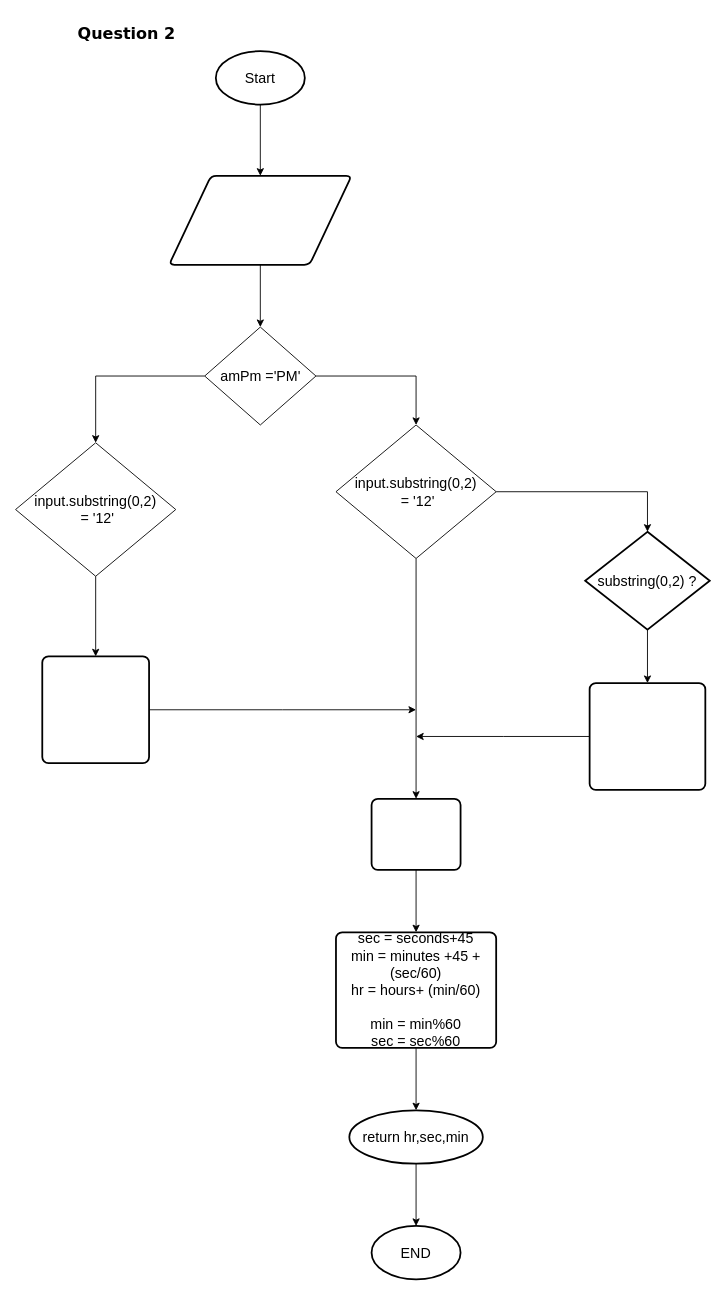
The diagram is 726 pixels wide and 1295 high, and some of its shapes have lost their labels. The centre of each missing label's shape, as x and y in pixels:
"Add 12 to hours and replace calculated value to input string" belongs at (x=647, y=736).
"amPm = extract substring last two letter" belongs at (x=260, y=219).
"Replace input hour place to '00'" belongs at (x=95, y=709).
"result = input" belongs at (x=415, y=833).
